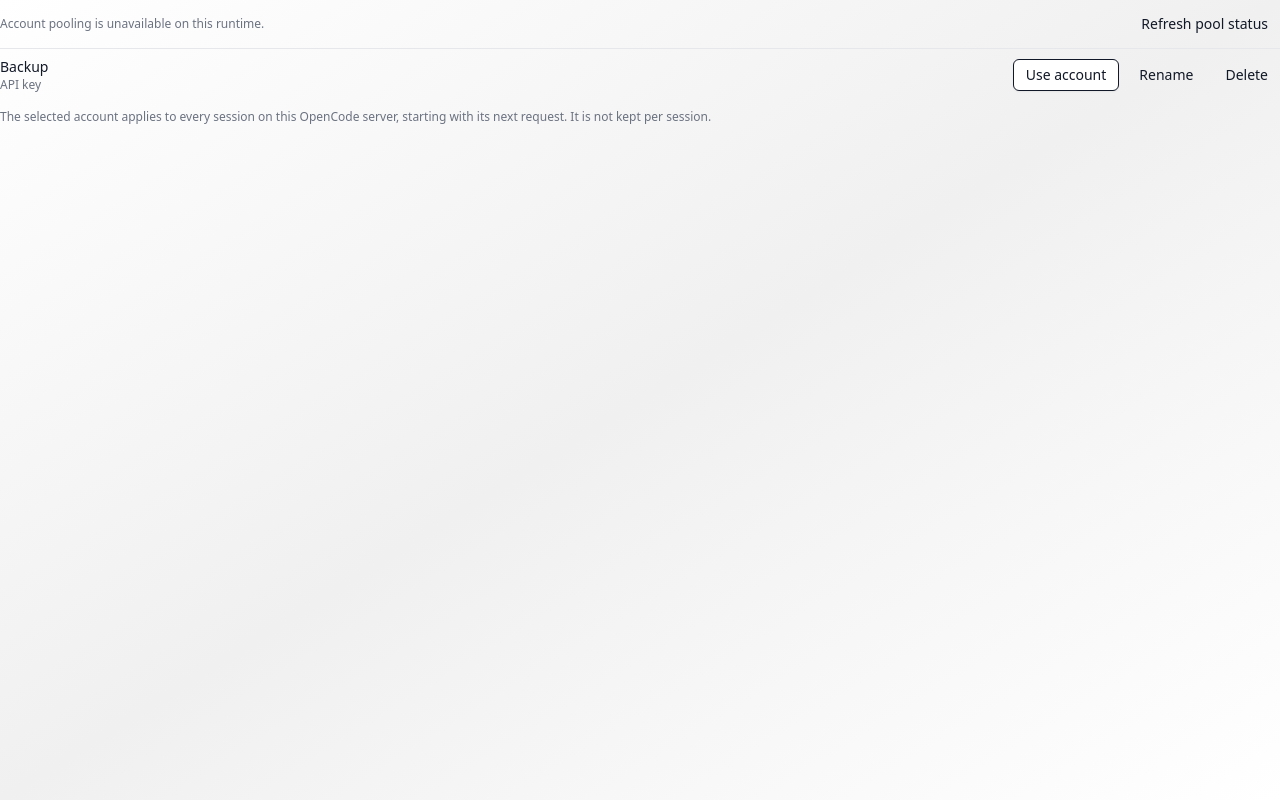
Scenario: provider account list › changes selection only after a click and surfaces confirmation failure: false
Later steps or results of the test are not shown.
Click the button with aria-label "Use account {name}": (1066, 75) top-left (1013, 59), bottom-right (1119, 91)
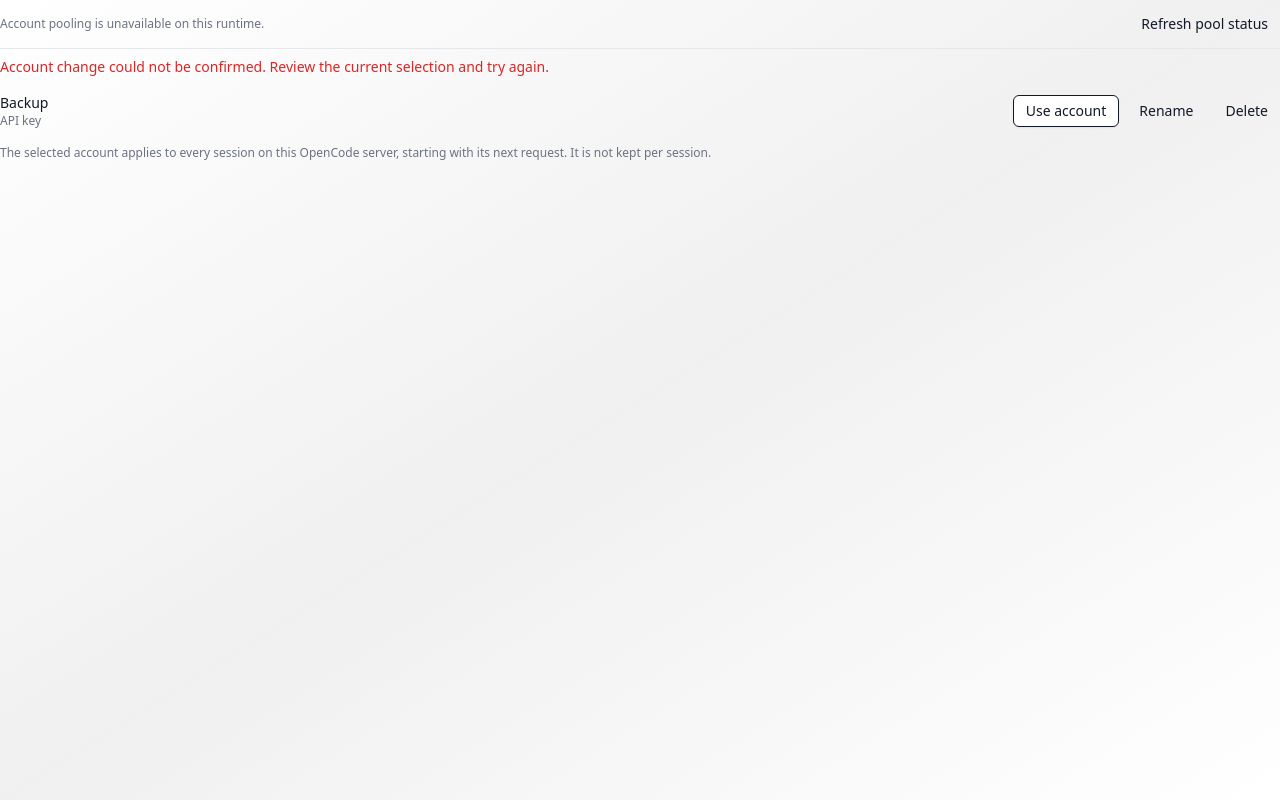
expect the button with aria-label "Use account {name}" is enabled: met, box top-left (1013, 95), bottom-right (1119, 127)
expect the message shows "Account change could not be confirmed.": met, box top-left (0, 57), bottom-right (549, 76)
